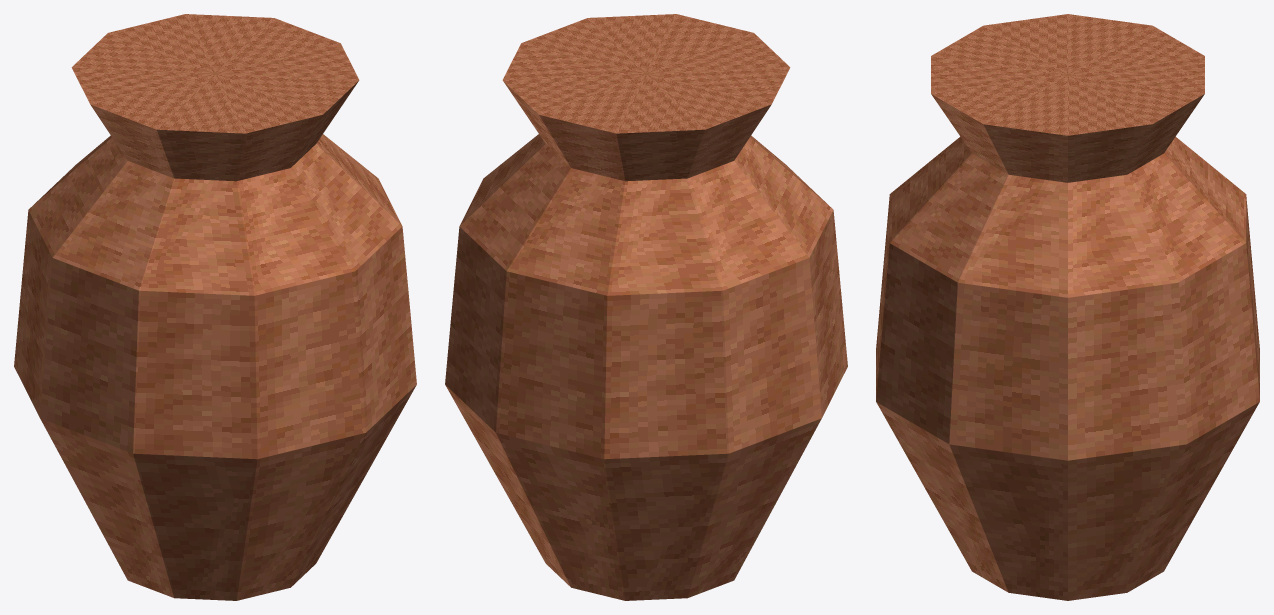
File: jarro_de_ceramica.glb
The picture shows the model from 3 angles, left to right: view 1: azimuth 30°, elevation 25°; view 2: azimuth 150°, elevation 25°; view 3: azimuth 270°, elevation 25°; orthographic projection.
Parts seen in each view (by area): view 1: jarro_de_ceramica; view 2: jarro_de_ceramica; view 3: jarro_de_ceramica.
Boxes of the visible parts, bbox=[...] form: jarro_de_ceramica: bbox=[14, 14, 416, 600]; jarro_de_ceramica: bbox=[445, 14, 847, 600]; jarro_de_ceramica: bbox=[876, 14, 1259, 600].
Size of the model in its own units: 0.56 by 0.74 by 0.5326.
Materials: 1 (1 with a texture image).
